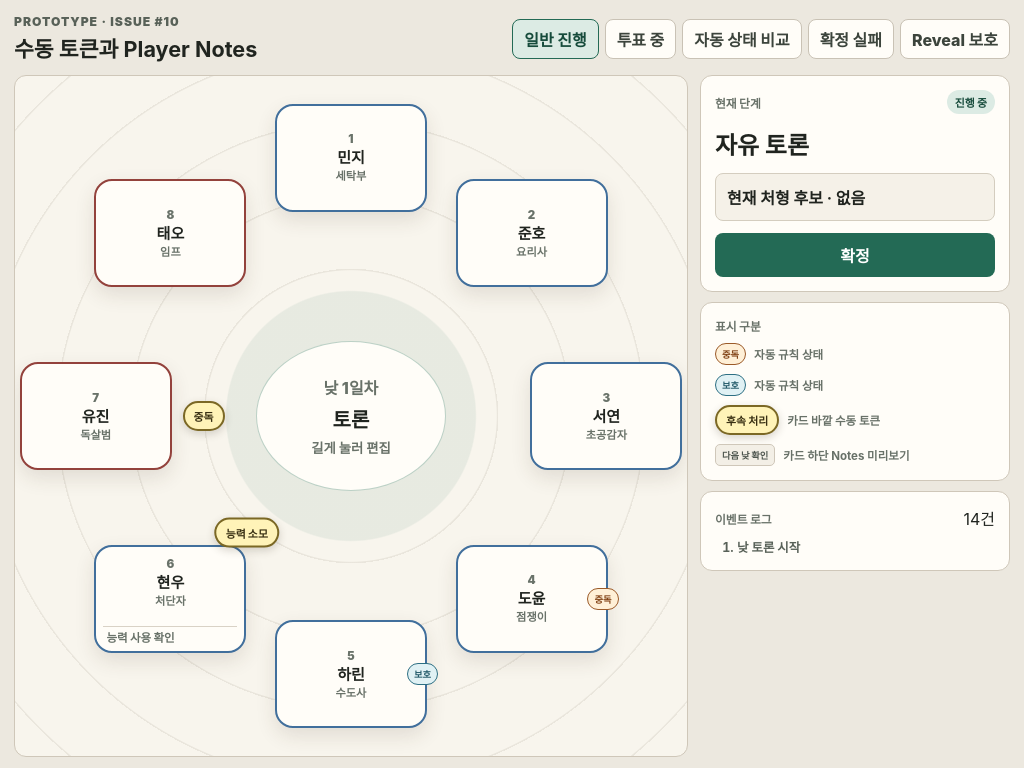
Scenario: confirms System Tokens, Script Tokens, and Notes as one mock event
Press the mouse on the button with aria-label "2번 준호 좌석 선택" at (532, 233), box [458, 181, 606, 285]
Wait 550 ms
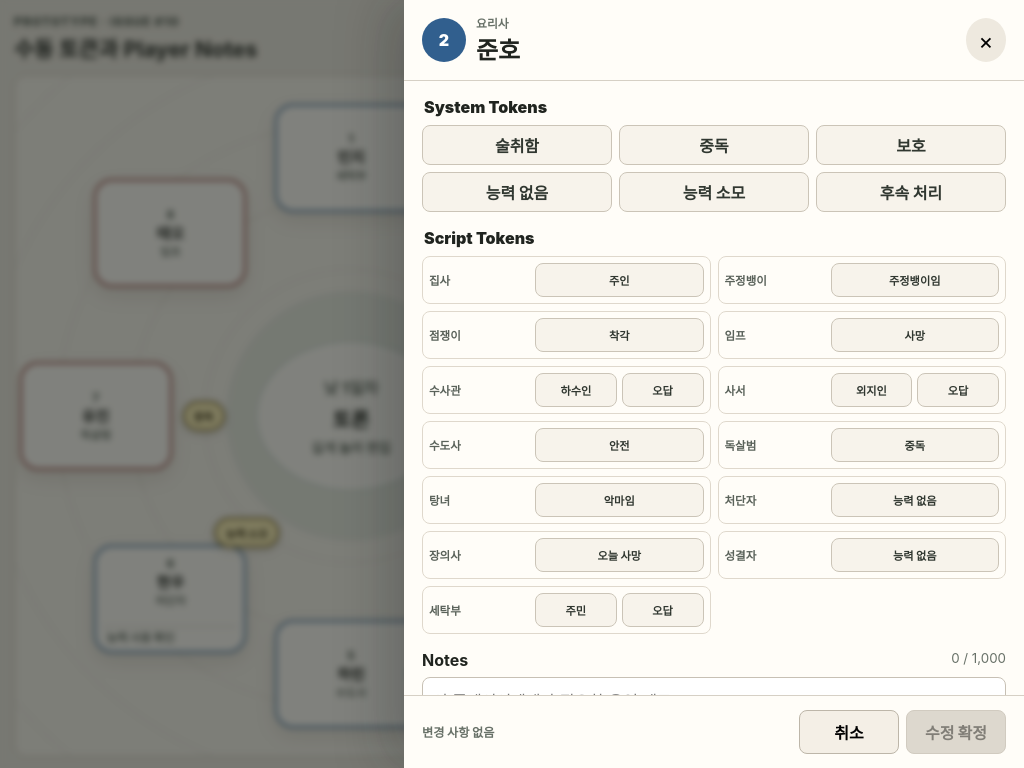
Click the button with aria-label "System Token · 후속 처리" at (911, 192), box [816, 172, 1006, 212]
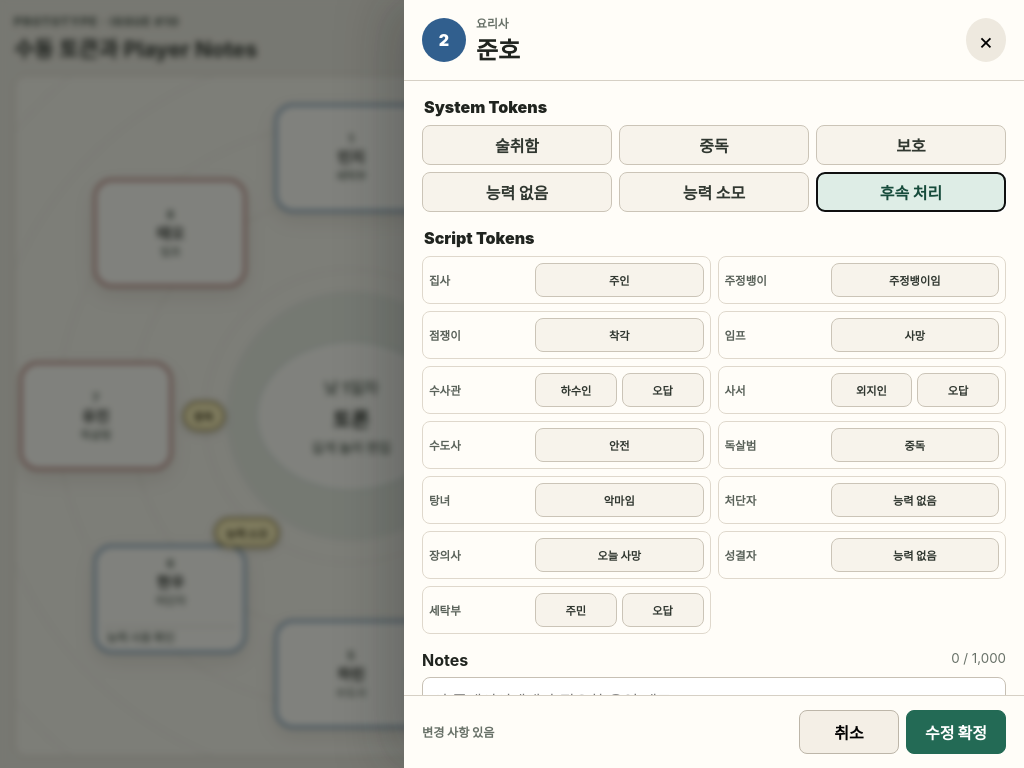
Click the button with aria-label "Script Token · 점쟁이 · 착각" at (619, 335), box [535, 318, 704, 352]
(page scrolled)
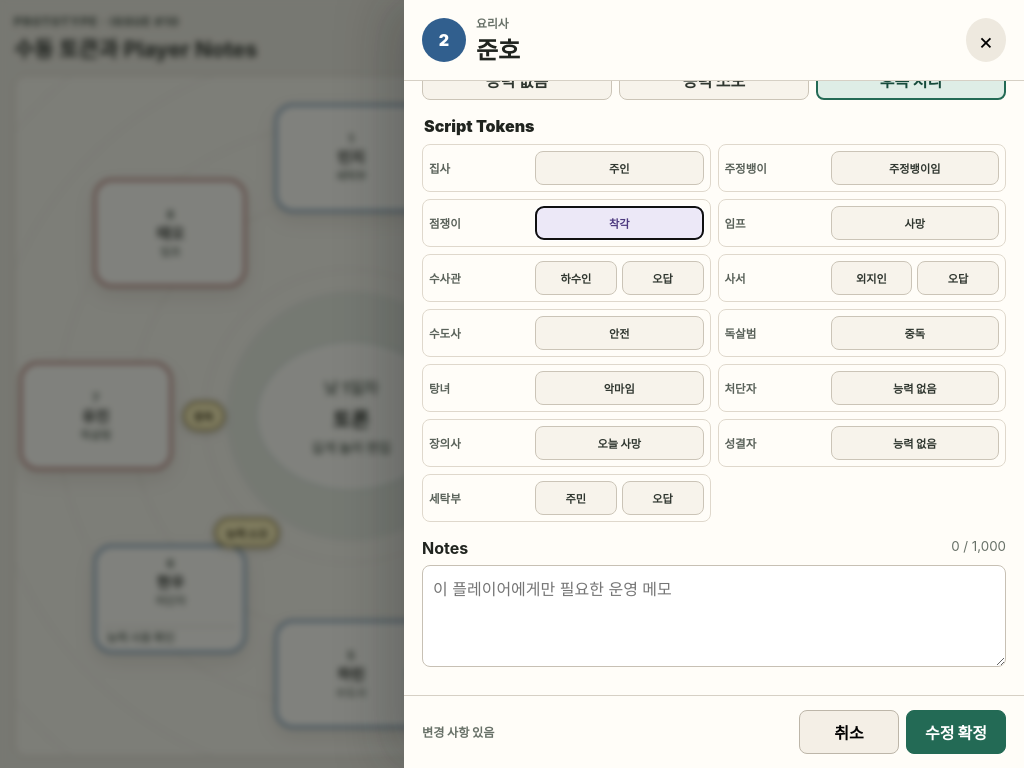
Type "다음 낮에 개인 확인" into the text box labelled "Notes" at (714, 616), box [422, 565, 1006, 667]
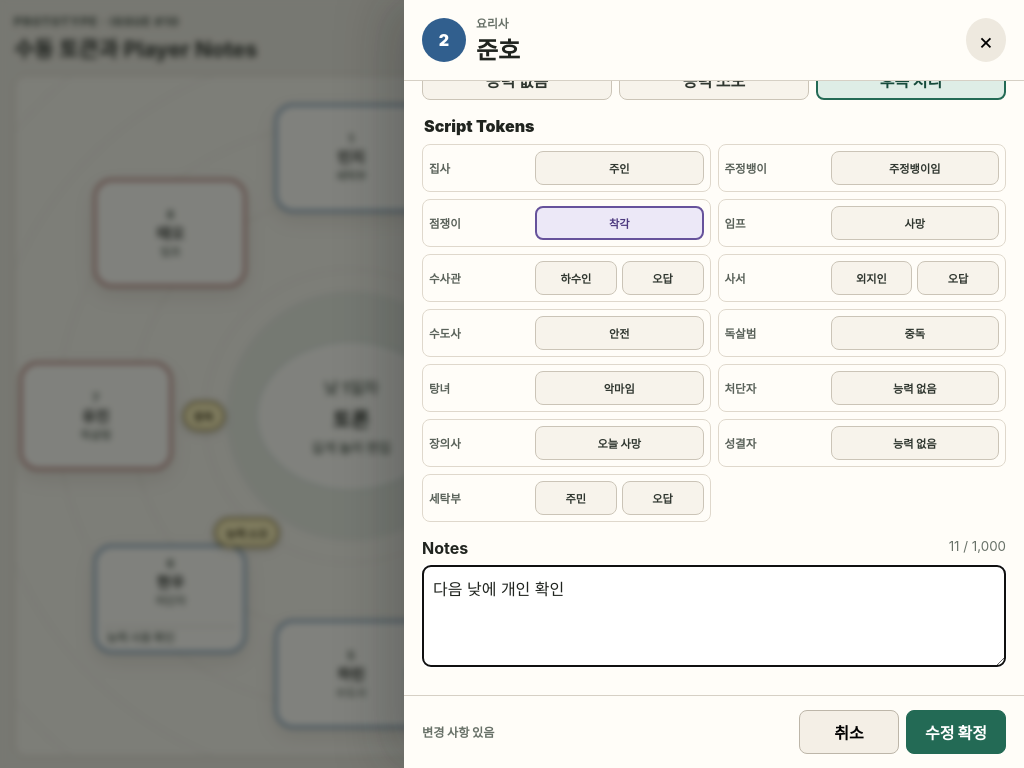
Click the button "수정 확정" at (956, 732), box [906, 710, 1006, 754]
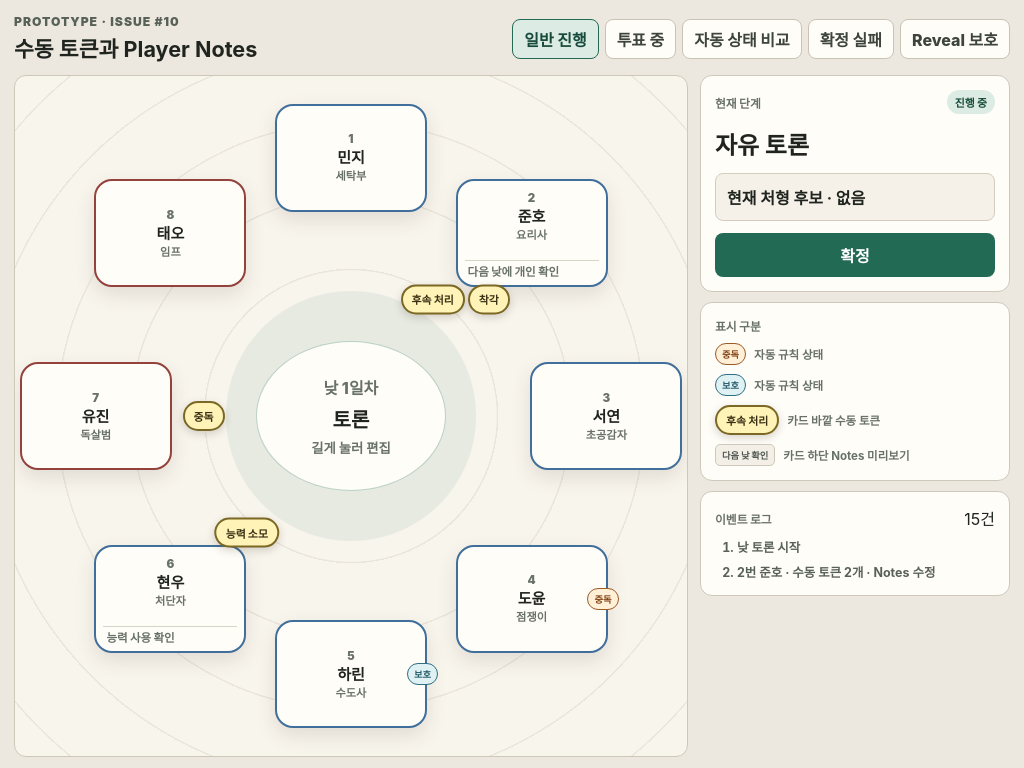
Result: the dialog is gone
Result: the text "후속 처리" is shown at [412, 294, 454, 308]
Result: the text named "Notes 미리보기" reads "다음 낮에 개인 확인" at [468, 265, 559, 279]
